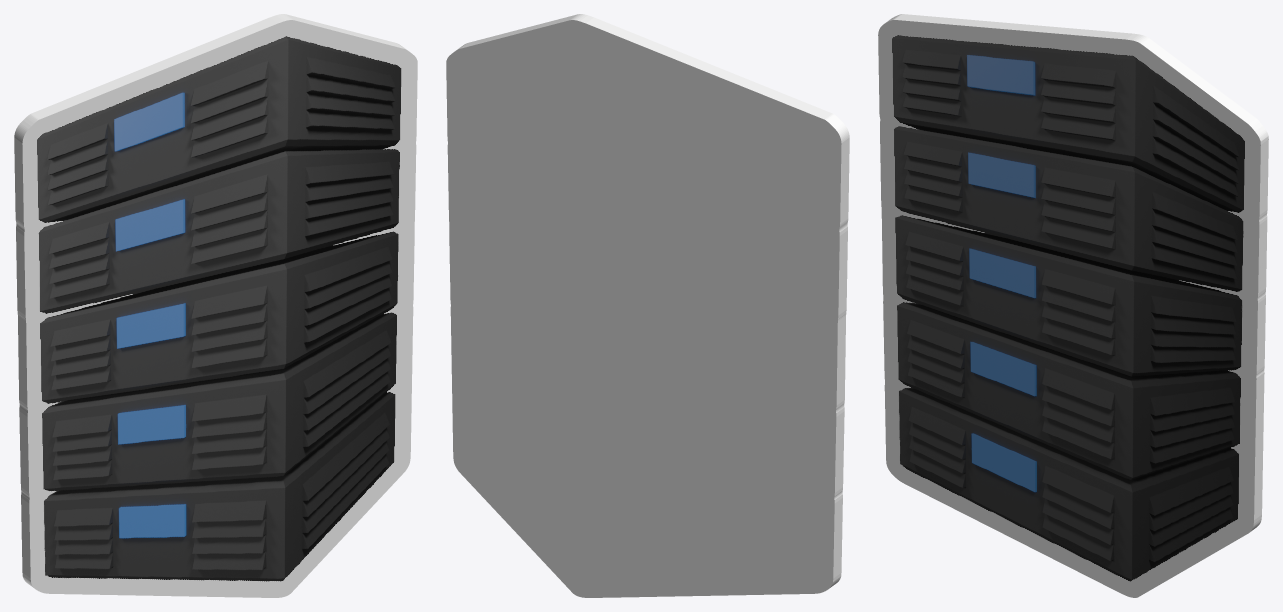
The model's file is ServerBackEnd.gltf.
3 views of the same model, side by side, from view 1: azimuth 30°, elevation 25°; view 2: azimuth 150°, elevation 25°; view 3: azimuth 330°, elevation 25° (orthographic). The views are drawn at different scales.
Parts seen in each view (by area): view 1: ServerBackEnd; view 2: ServerBackEnd; view 3: ServerBackEnd.
Boxes of the visible parts, x1,y1,x2,y2 form: ServerBackEnd: (14,14,417,597); ServerBackEnd: (446,14,849,597); ServerBackEnd: (878,14,1268,597).
Size of the model in its own units: 2.76 by 3.84 by 0.1.
Materials: 2 (1 with a texture image).
